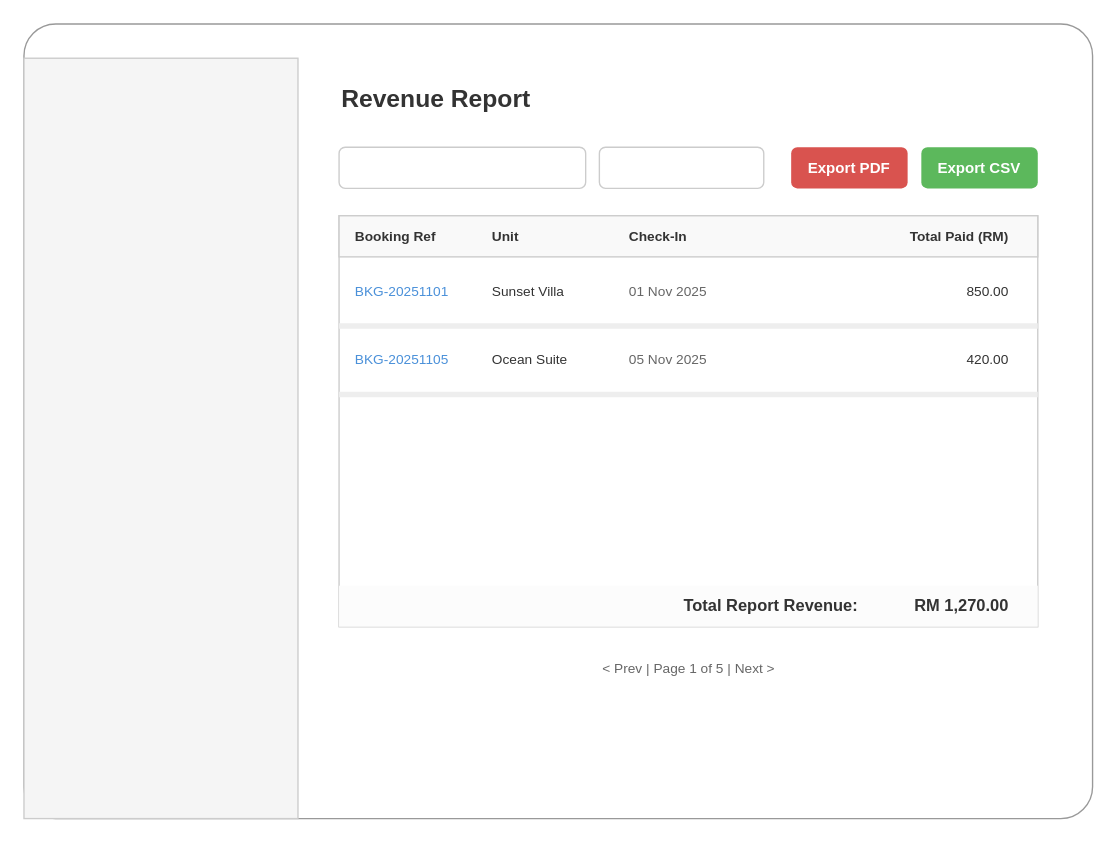
Image size: 1117x843. Some labels were removed from this diagram. The box of each missing label's shape, as (x1, y1, x2, y2) in pixels:
All Units ▼: (598, 146, 764, 188)
Custom: 01 Nov - 30 Nov ▼: (338, 146, 586, 188)
